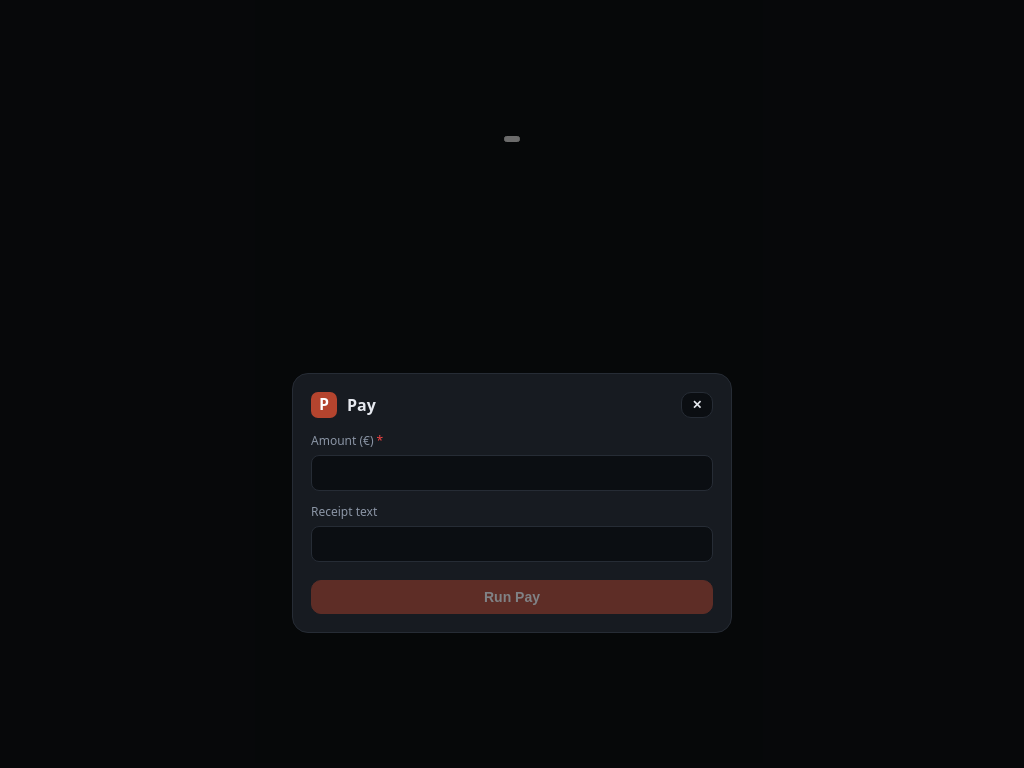
CommandParamsSheet › keeps submit disabled for a zero or negative amount (money-safety)
Type "0" into the number field with test id "input-amountCents". click: x=512, y=472
box: [311, 454, 713, 490]
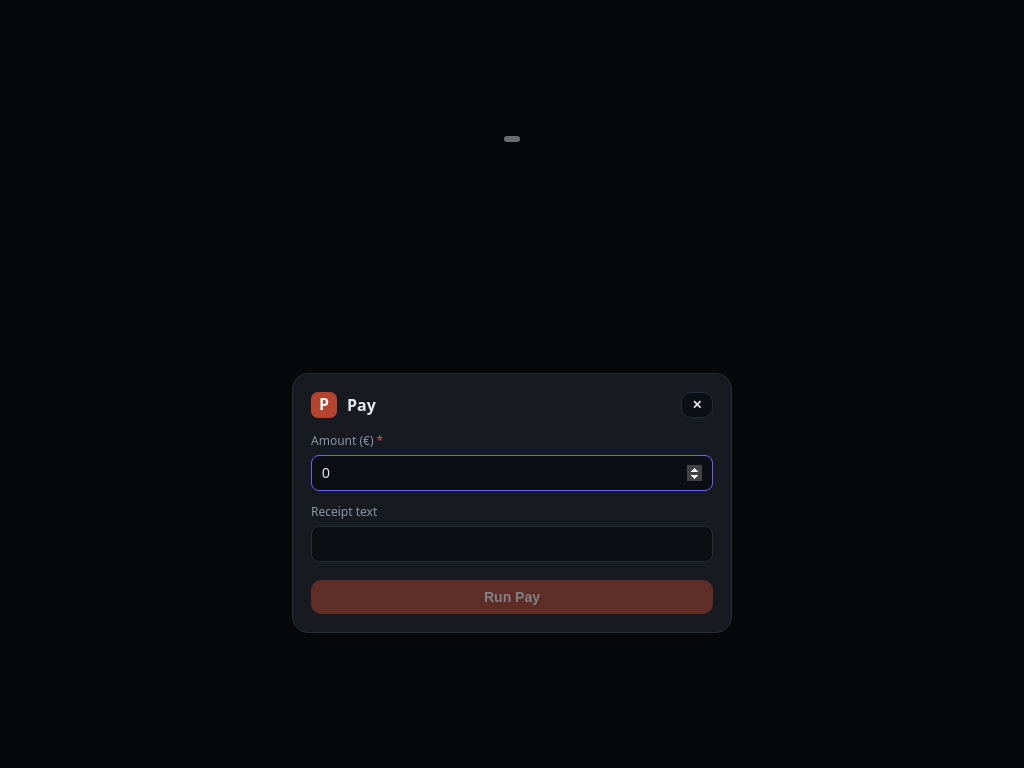
Expected: the button with test id "sheet-submit" is disabled, [311, 580, 713, 614]
Replace the text in the number field with test id "input-amountCents" with "-5". click: x=512, y=472
box: [311, 454, 713, 490]
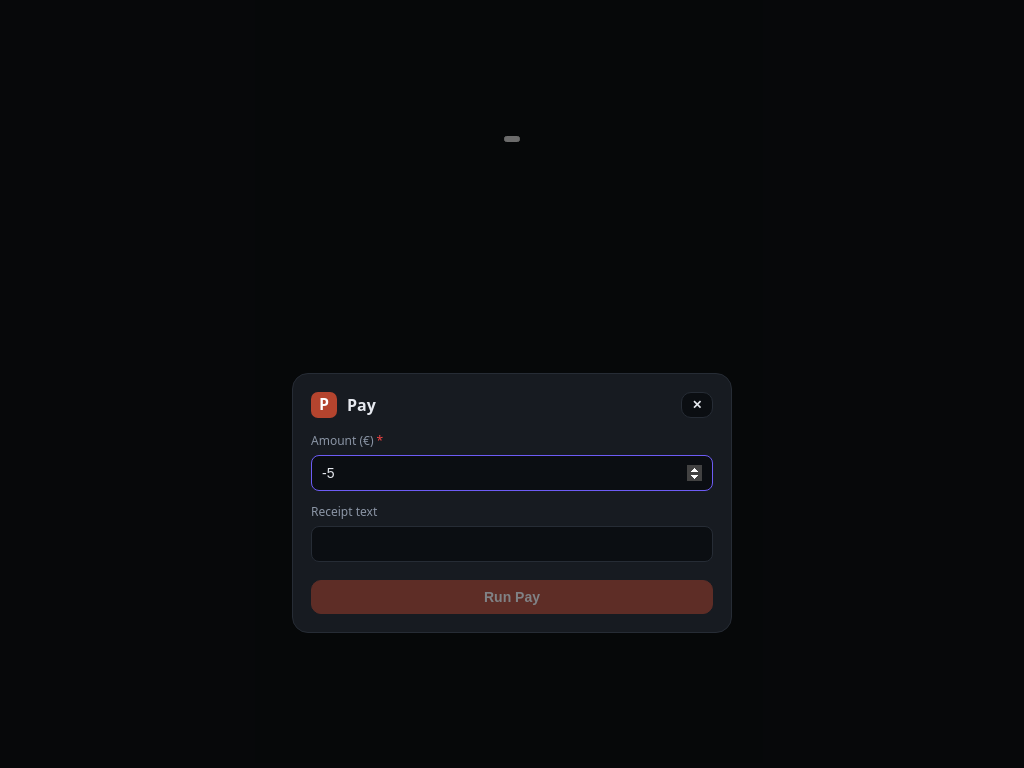
Expected: the button with test id "sheet-submit" is disabled, [311, 580, 713, 614]
Replace the text in the number field with test id "input-amountCents" with "1". click: x=512, y=472
box: [311, 454, 713, 490]
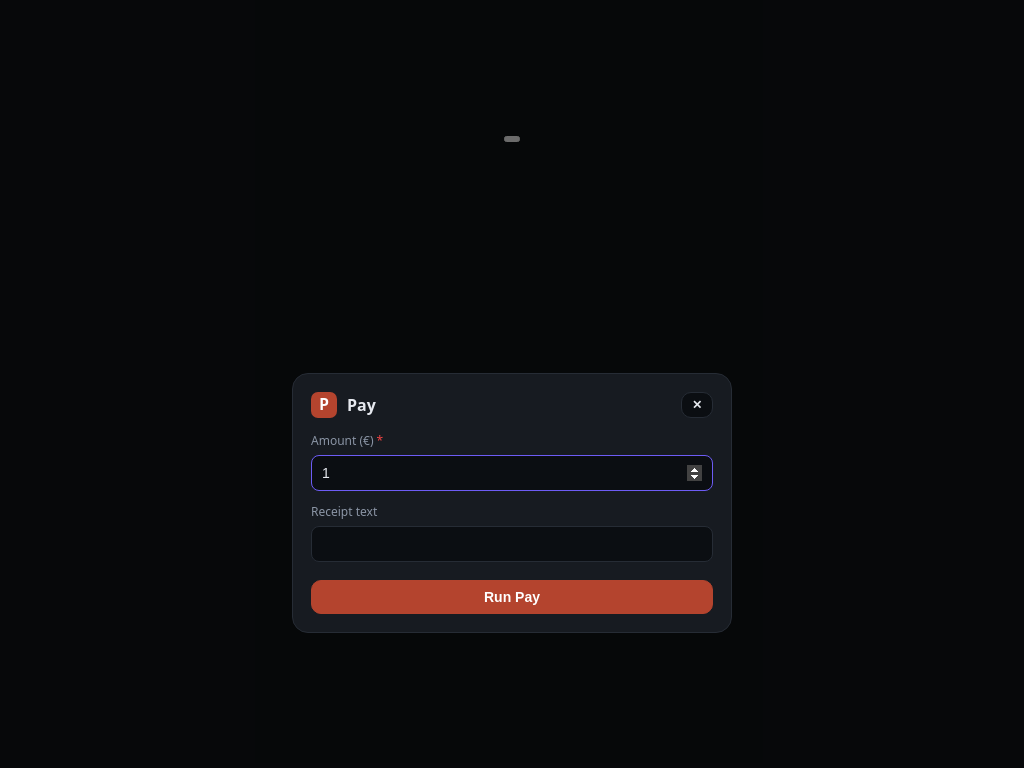
Now the button with test id "sheet-submit" is enabled, box [311, 580, 713, 614]
